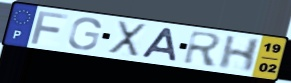A: (139, 27, 179, 63)
F: (28, 9, 70, 45)
G: (66, 17, 103, 51)
H: (216, 35, 264, 74)
R: (181, 29, 224, 68)
X: (106, 19, 149, 60)
